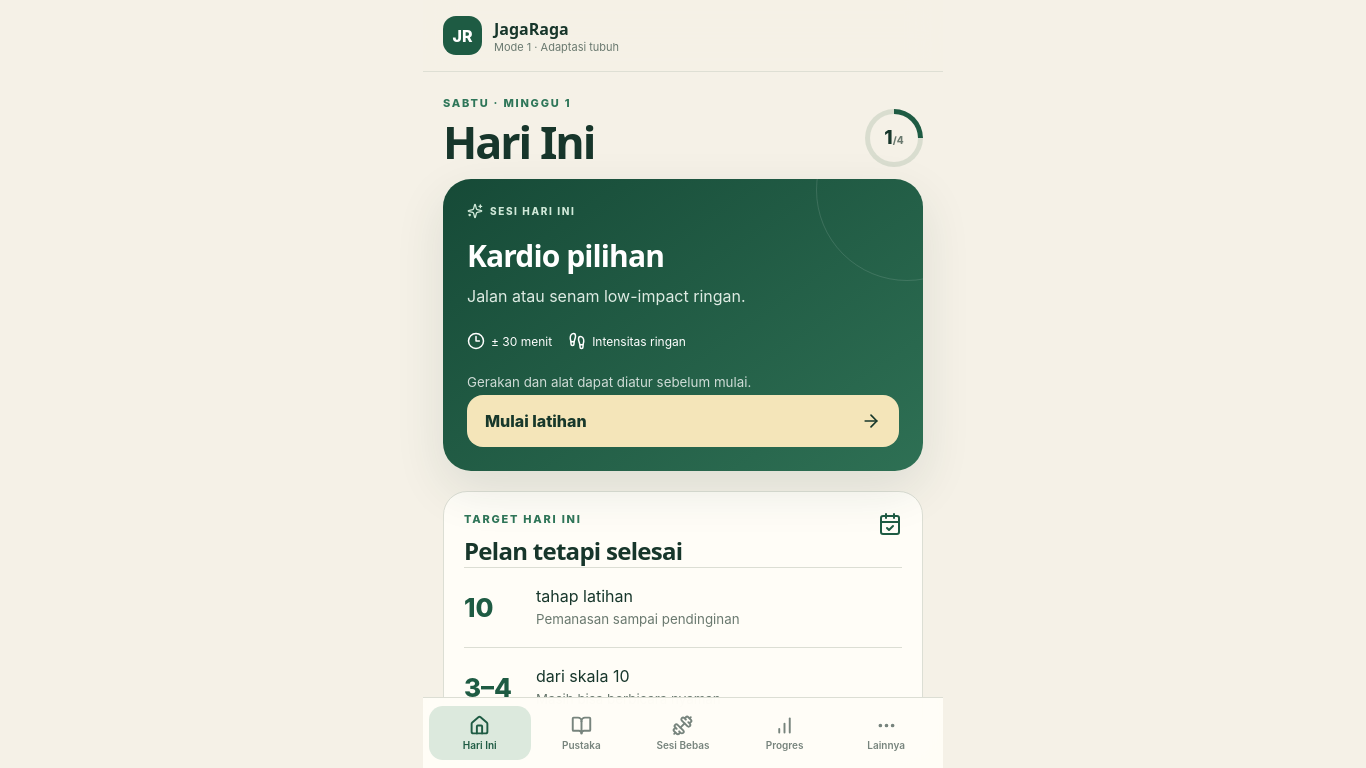
Test: opens tahajjud and reminder tools from more
This screenshot has width=1366, height=768.
Step 1. Click the button "Lainnya" → (886, 733), box [835, 706, 937, 760]
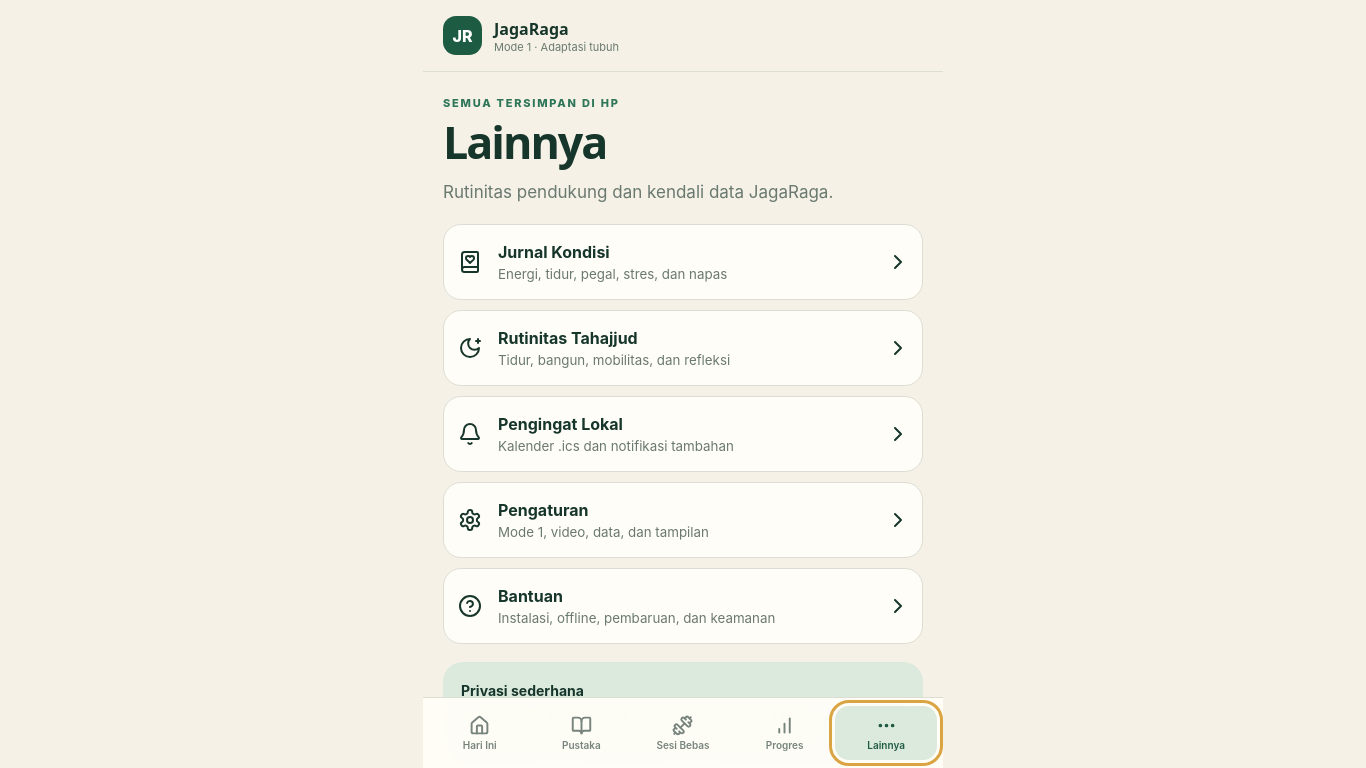
Step 2. Click the button "Rutinitas Tahajjud Tidur, bangun, mobilitas, dan refleksi" → (568, 338), box [443, 310, 923, 386]
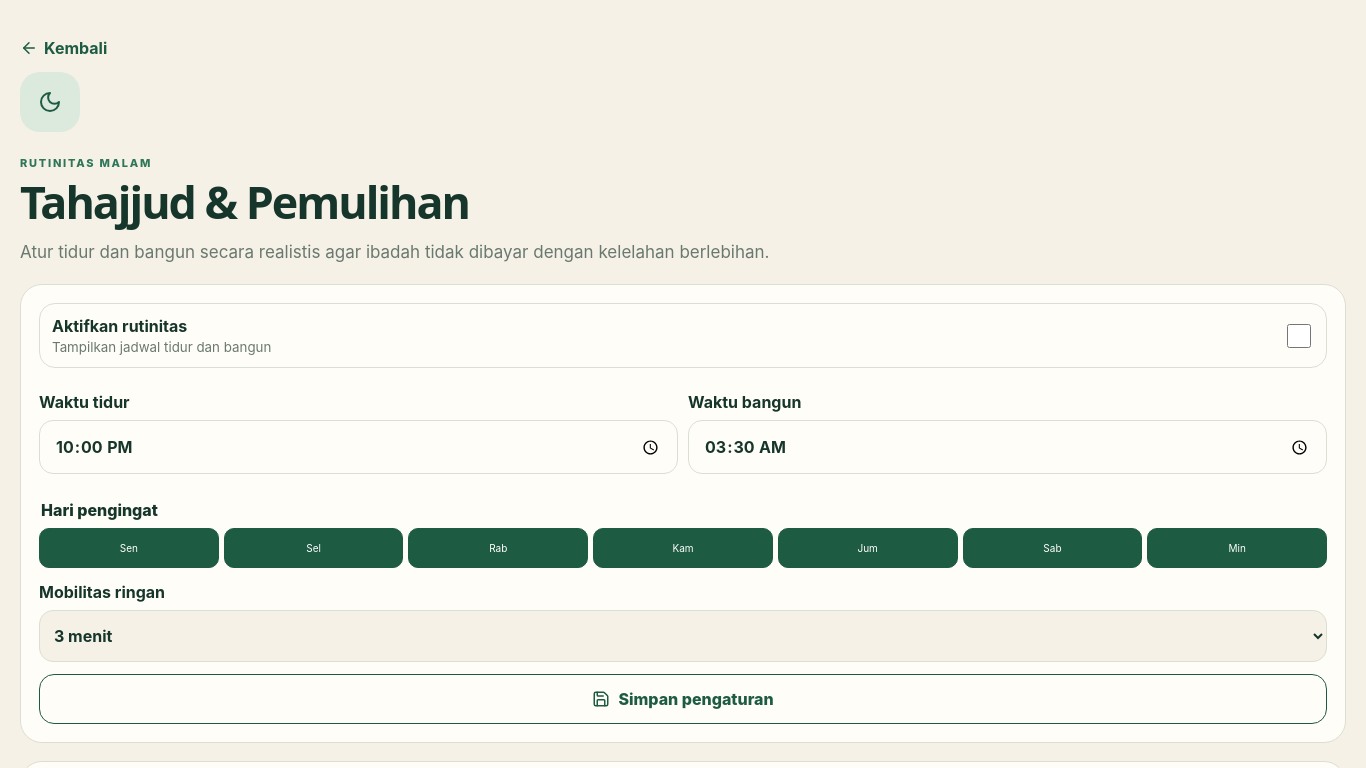
Now the heading "Tahajjud & Pemulihan" is shown, box [20, 171, 469, 232]
Step 3. Click the button "Kembali" → (64, 48), box [20, 24, 107, 72]
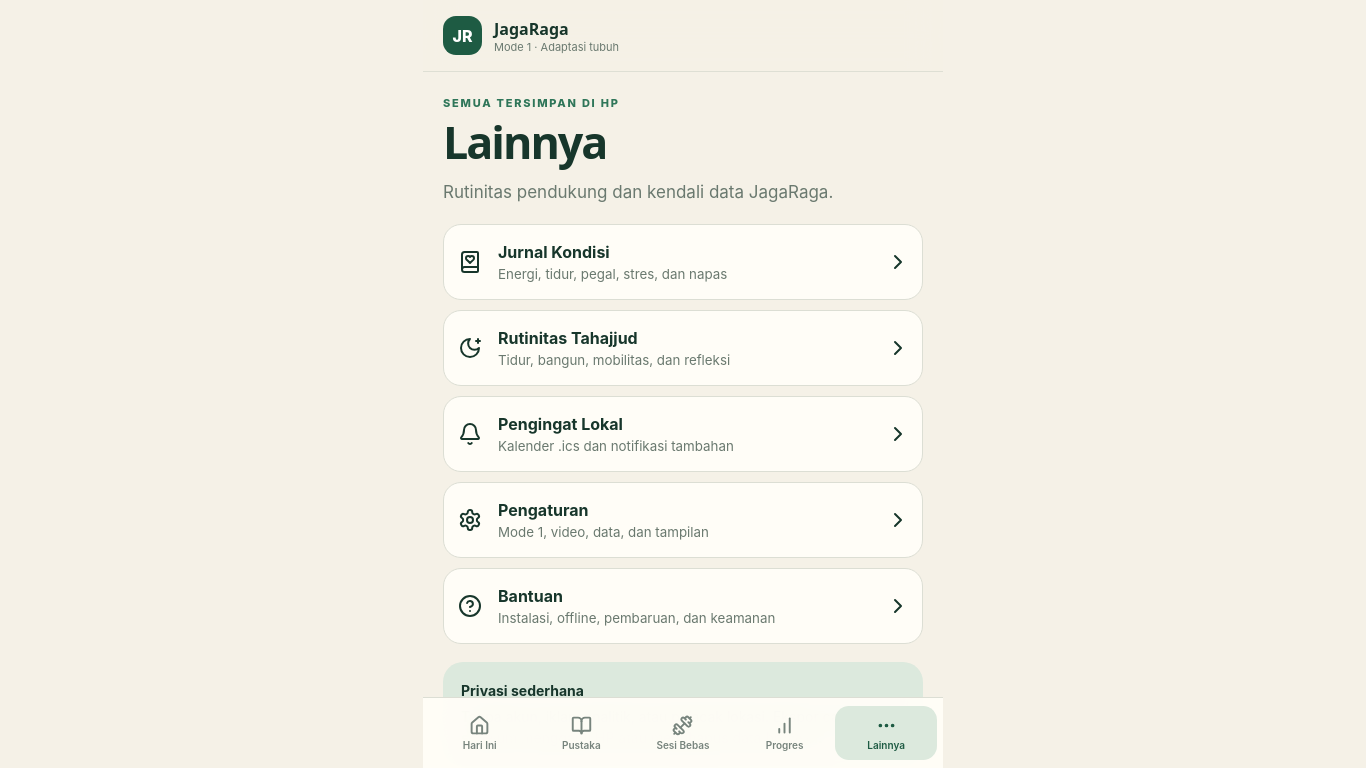
Step 4. Click the button "Pengingat Lokal Kalender .ics dan notifikasi tambahan" → (560, 424), box [443, 396, 923, 472]
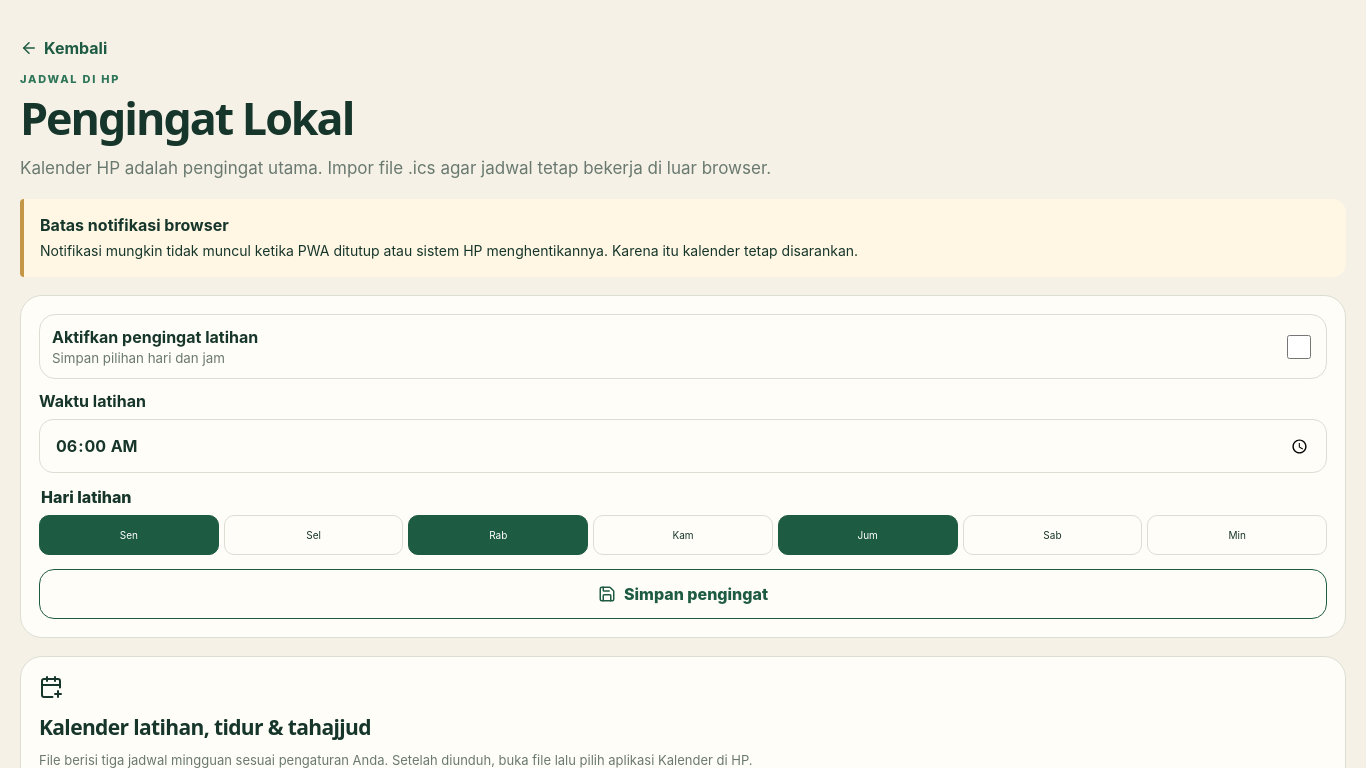
Now the heading "Pengingat Lokal" is shown, box [20, 87, 353, 148]
